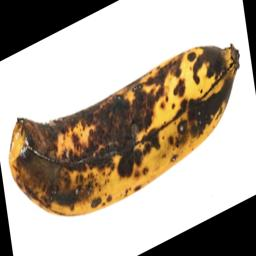Banana Rotten: (0, 35, 256, 227)
